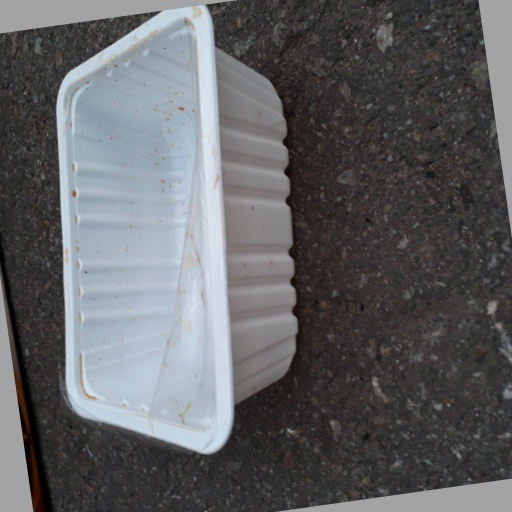Plastic_4: (48, 5, 298, 455)
